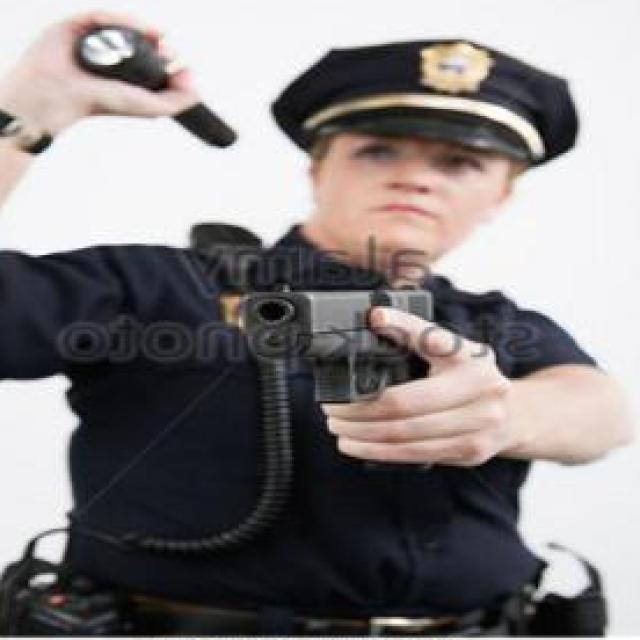pistol: (238, 278, 440, 474)
